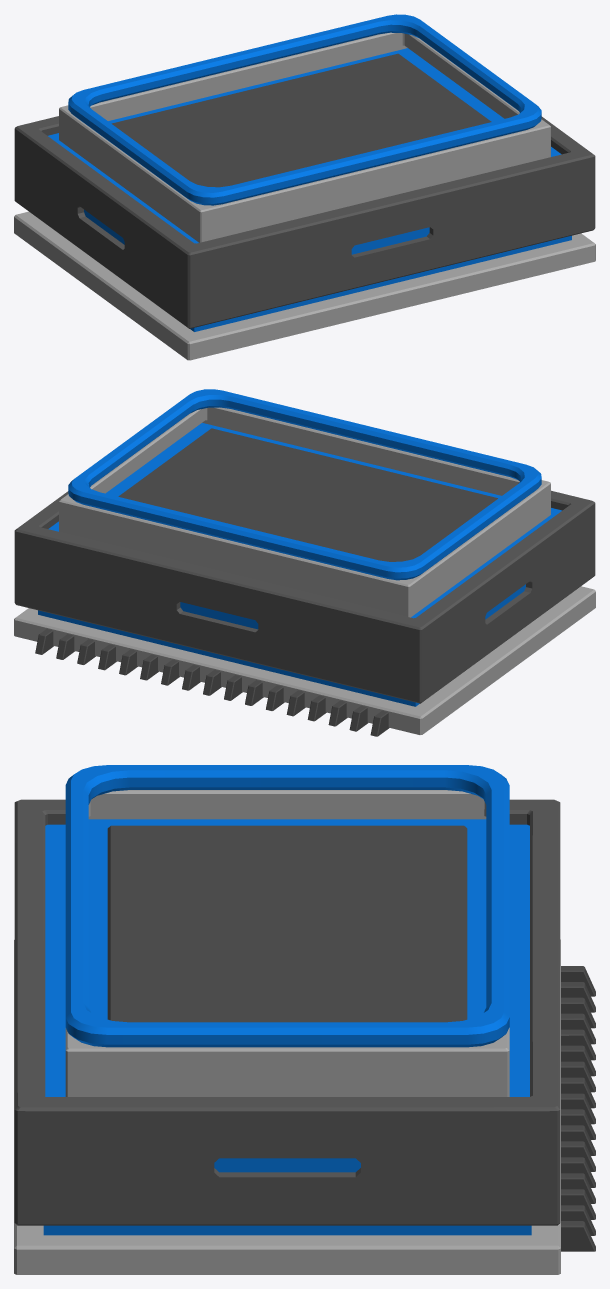
Rendered from Tetris_BlockPlatformA.fbx.
The picture shows the model from 3 angles, top to bottom: view 1: azimuth 30°, elevation 25°; view 2: azimuth 150°, elevation 25°; view 3: azimuth 270°, elevation 25°; orthographic projection. The views are drawn at different scales.
Parts seen in each view (by area): view 1: Tetris_BlockPlatformA; view 2: Tetris_BlockPlatformA; view 3: Tetris_BlockPlatformA.
Part boxes in pixels (left/top/right/bottom): Tetris_BlockPlatformA: left=14, top=14, right=595, bottom=360; Tetris_BlockPlatformA: left=14, top=389, right=595, bottom=736; Tetris_BlockPlatformA: left=14, top=765, right=595, bottom=1274.
Bounding box in the file's own units: 56.41 × 19.05 × 44.64.
